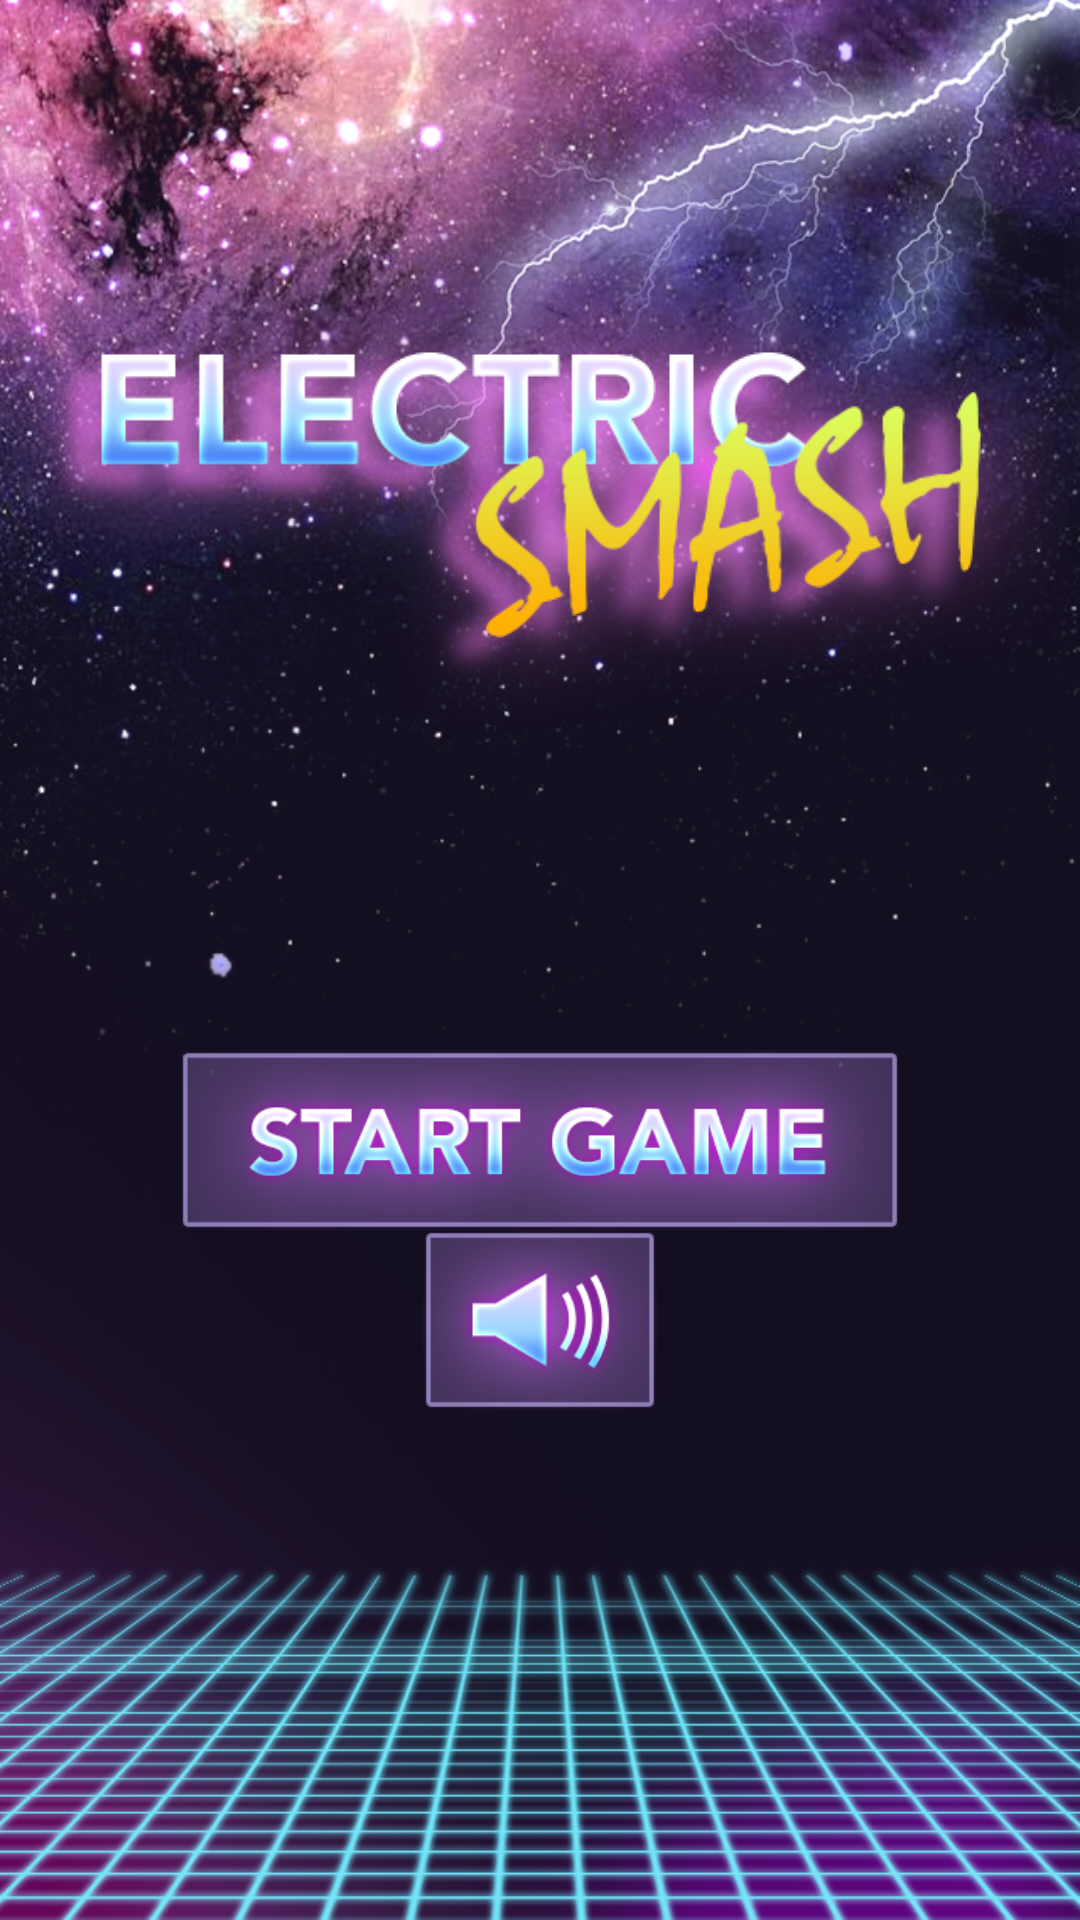

Named icons in this screenshot (1080 x 1920) and their centers, (x,y):
mutebtn: (540,1320)
